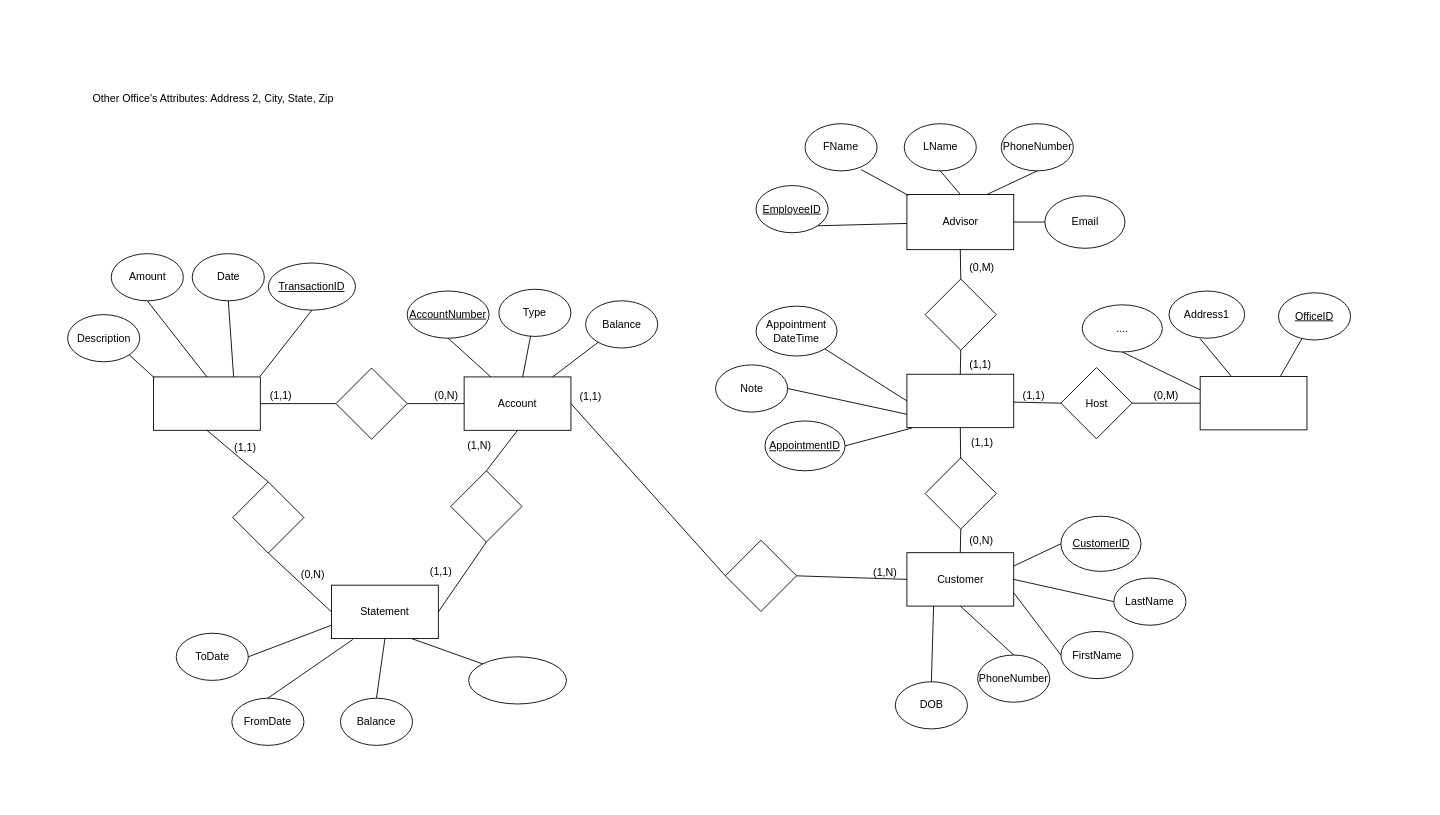
The diagram is 1440 pixels wide and 815 high, and some of its shapes have lost their labels. Each missing label, with the box of its shape:
Appointment: (906, 373, 1014, 428)
Assign: (924, 278, 996, 350)
Belong: (232, 481, 304, 553)
Book: (924, 457, 996, 529)
Has: (450, 470, 522, 542)
Include: (335, 367, 407, 439)
Office: (1199, 376, 1307, 430)
Own: (724, 539, 797, 611)
StatementID: (468, 656, 566, 704)
Transaction: (153, 376, 260, 430)
